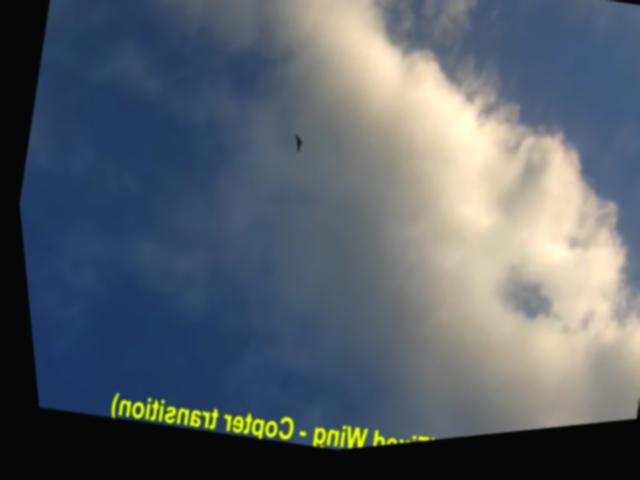plane: (284, 138, 301, 161)
